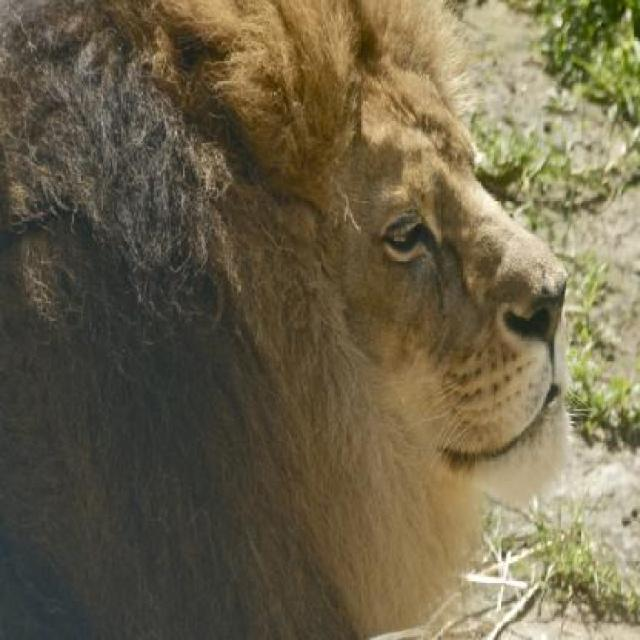Lion: (2, 4, 580, 638)
